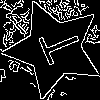T: (29, 23, 84, 70)
